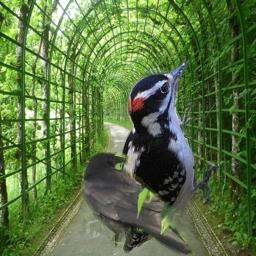Crow: (81, 152, 195, 255)
Woodpecker: (114, 59, 219, 253)
